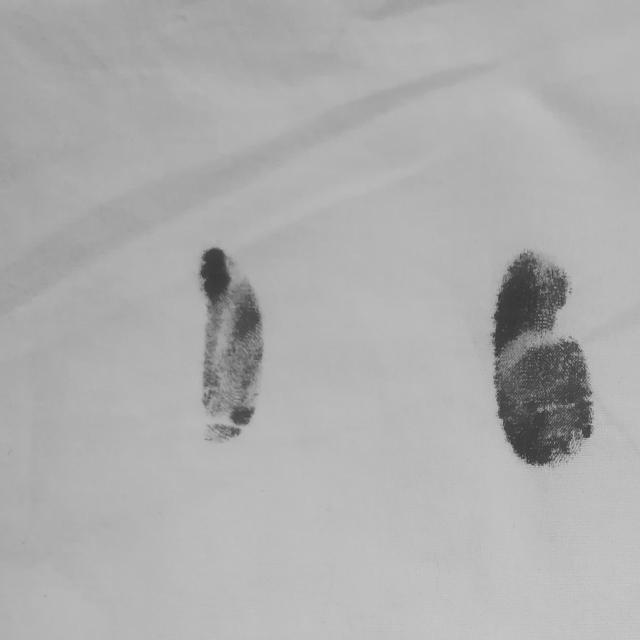Stain: (494, 251, 594, 465), (199, 247, 263, 442)
